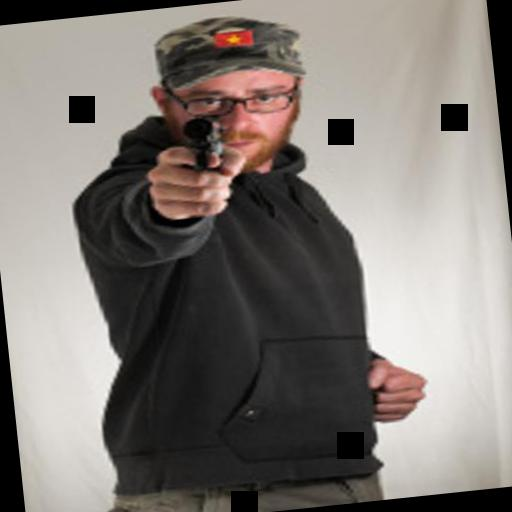Handgun: (176, 110, 222, 170)
